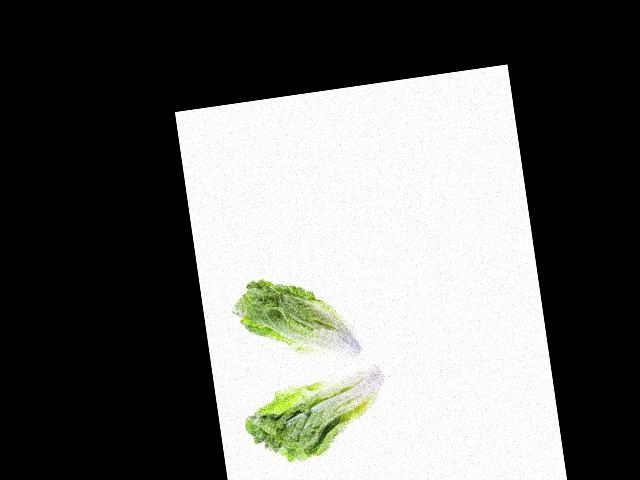lettuce: (257, 366, 364, 480)
